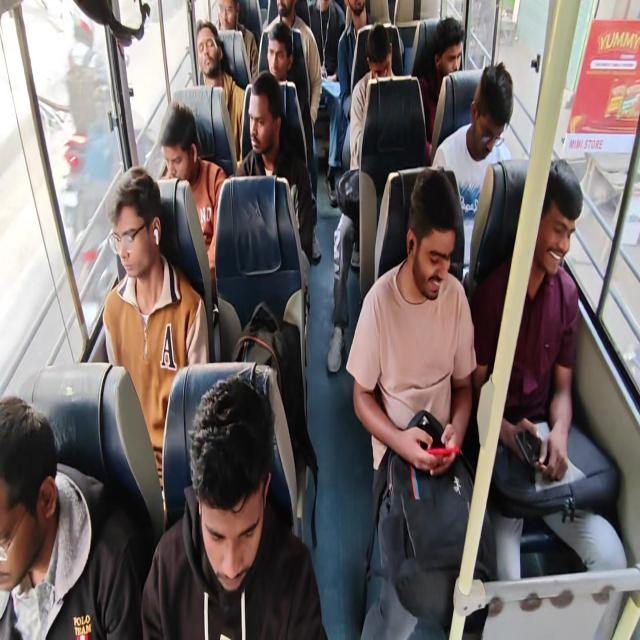person: (469, 156, 628, 637), (346, 167, 479, 638), (140, 374, 328, 638), (102, 166, 209, 498), (0, 395, 144, 639), (326, 21, 396, 374), (431, 61, 514, 282), (259, 0, 322, 262), (234, 70, 314, 264), (159, 101, 227, 300), (295, 0, 346, 206), (194, 19, 246, 160), (418, 16, 466, 156), (266, 21, 310, 168), (337, 0, 369, 170), (295, 0, 346, 82), (214, 0, 258, 84)
